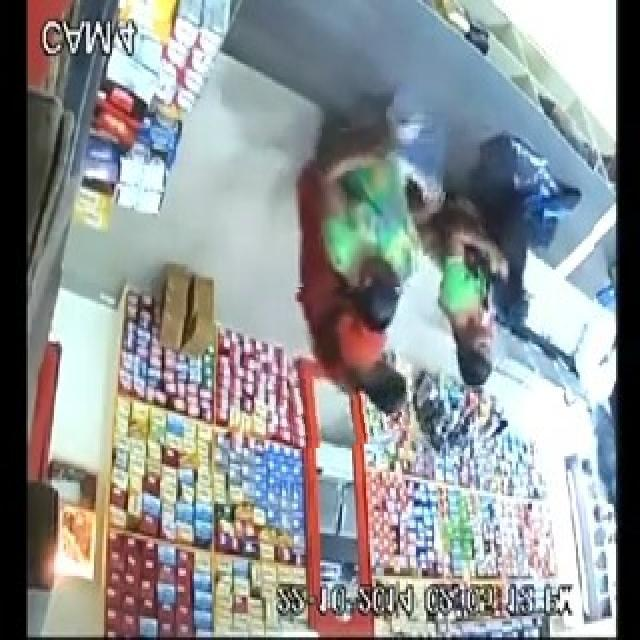Normal: (446, 120, 594, 427), (310, 55, 448, 349), (287, 287, 430, 447)
